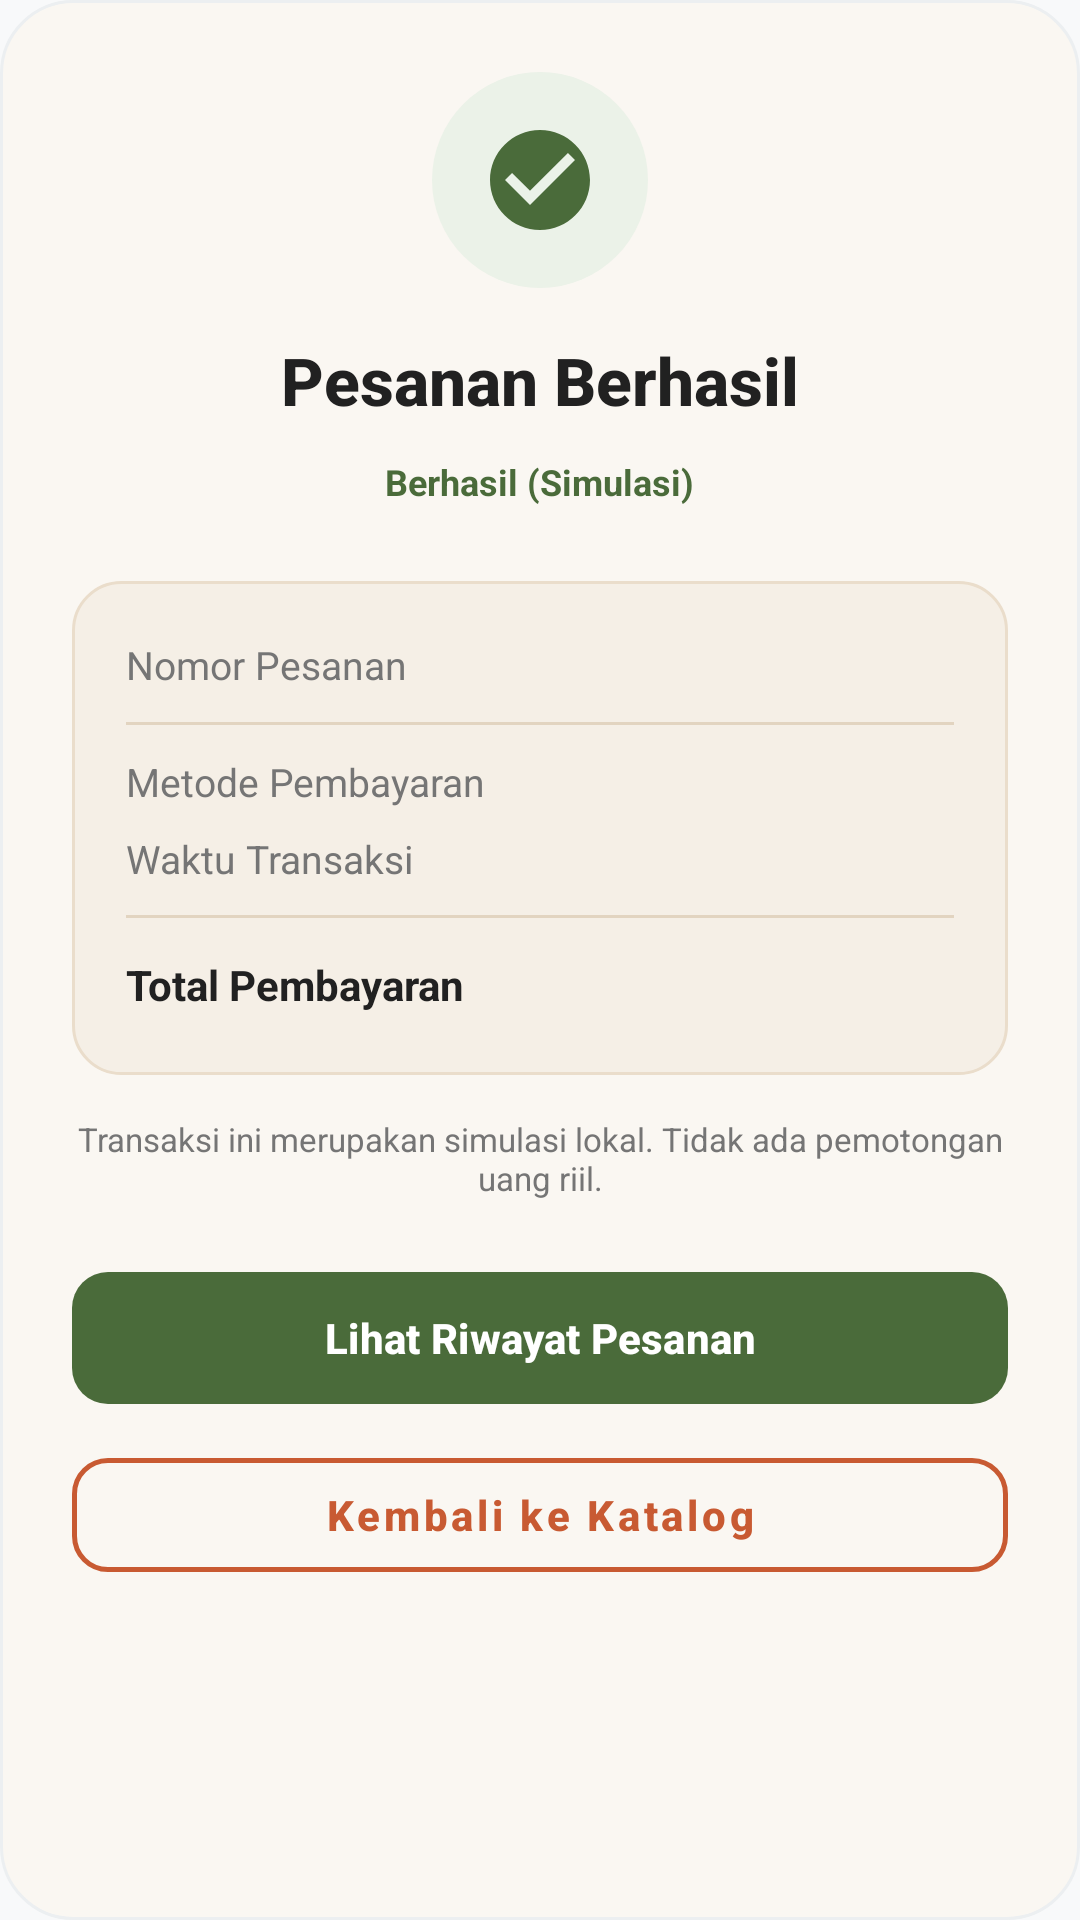

Locate icon controls on the screen. Image size 1080×1920, boxes as [x1,y1,x2,y2].
success editorial: [490,130,590,230]
